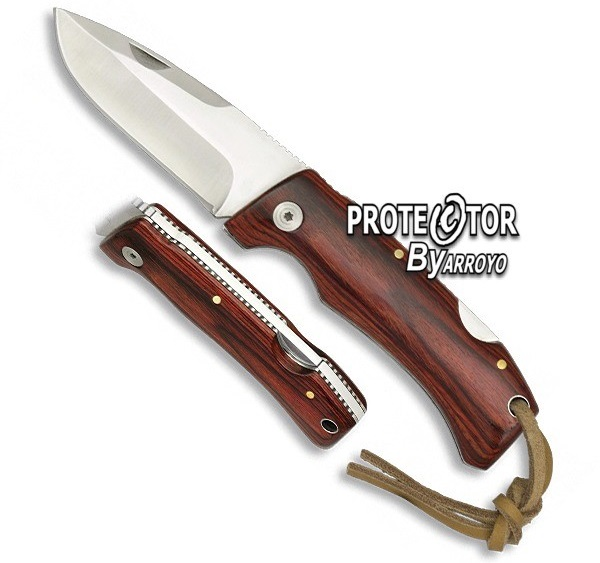knife: (47, 3, 315, 231)
